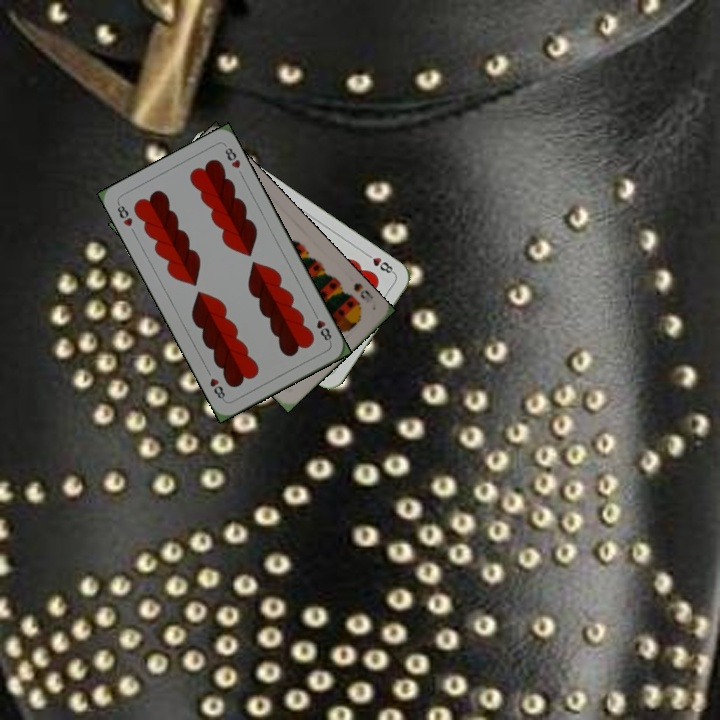H8: (361, 249, 397, 276), (309, 308, 334, 345), (113, 199, 135, 229)
S8: (349, 279, 377, 308)
